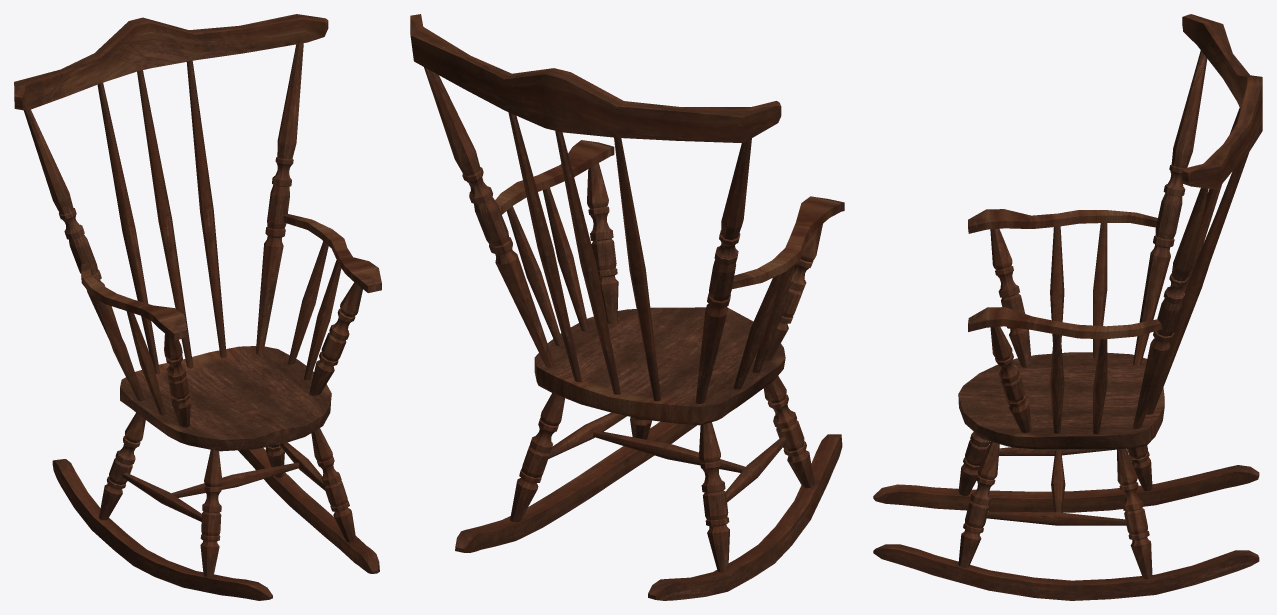
Rendered from porch-rocking-chair.glb.
3 views of the same model, side by side, from view 1: azimuth 30°, elevation 25°; view 2: azimuth 150°, elevation 25°; view 3: azimuth 270°, elevation 25° (orthographic). The views are drawn at different scales.
Parts seen in each view (by area): view 1: Object_3; view 2: Object_3; view 3: Object_3.
Part boxes in pixels (box(x1,y1,x2,y2)): Object_3: box(14, 14, 381, 600); Object_3: box(410, 14, 844, 600); Object_3: box(873, 14, 1262, 600).
Size of the model in its own units: 13.55 by 18.9 by 14.07.
Materials: 1 (1 with a texture image).
